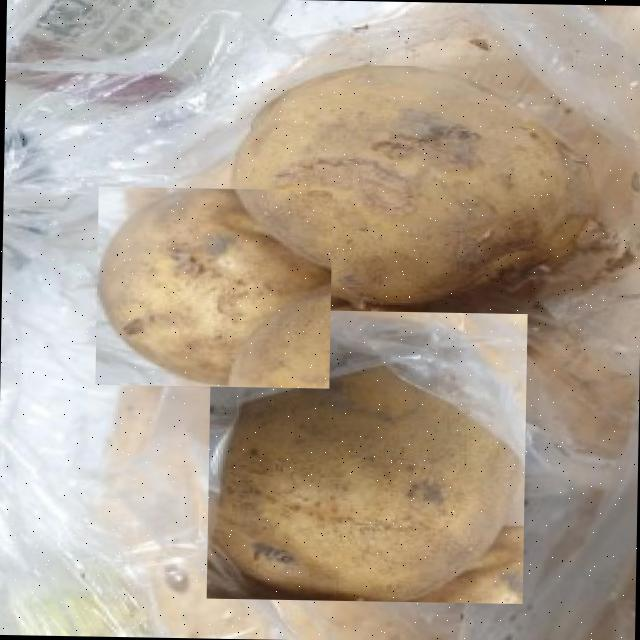Potato: (205, 308, 526, 604), (224, 55, 587, 312), (94, 186, 331, 388)
